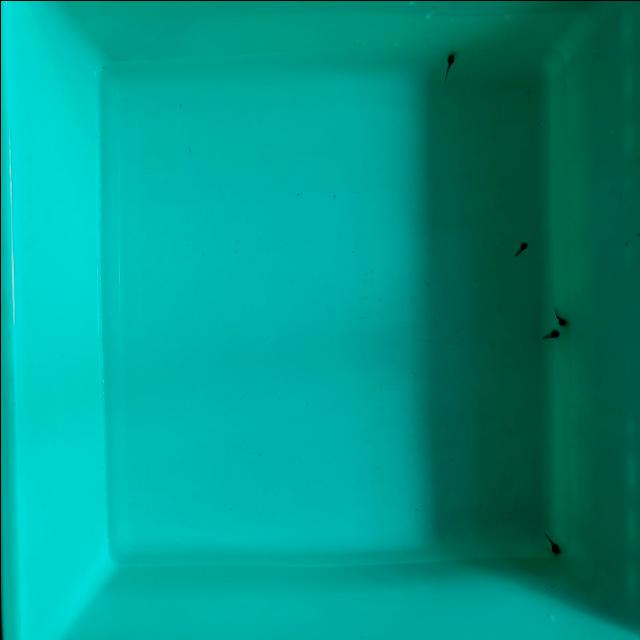lele: (542, 530, 561, 554), (550, 306, 567, 328), (540, 326, 561, 341), (512, 239, 529, 257), (444, 52, 454, 82)
